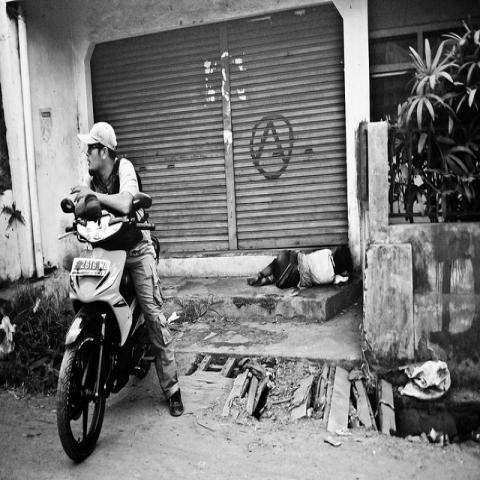motorcycle: (55, 193, 156, 463)
